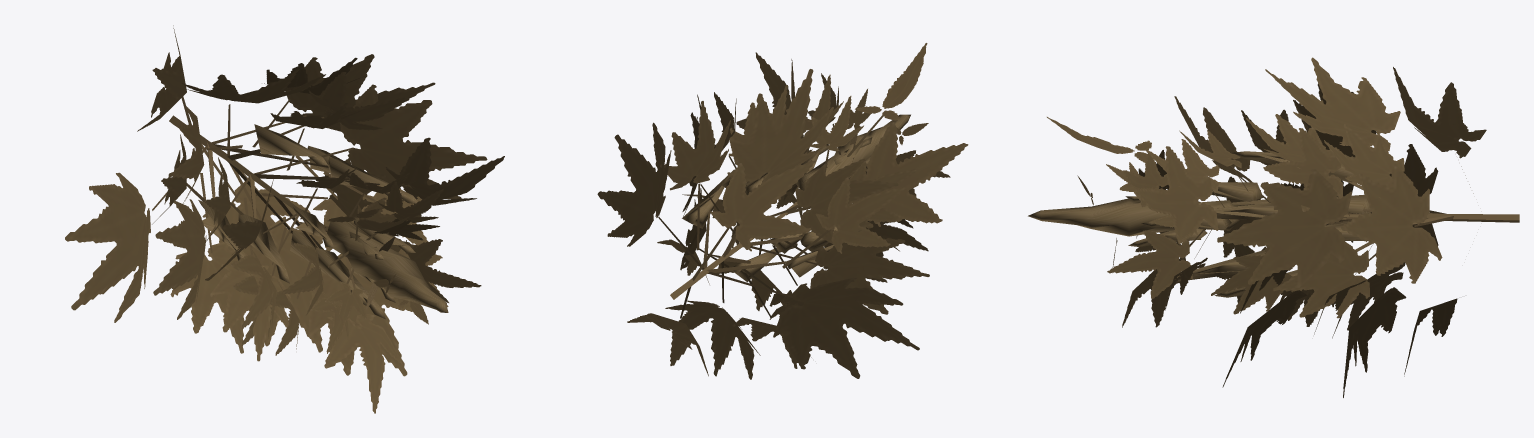
Rendered from p_tree_flowering_c3_cards.obj.
The picture shows the model from 3 angles, left to right: view 1: azimuth 30°, elevation 25°; view 2: azimuth 150°, elevation 25°; view 3: azimuth 270°, elevation 25°; orthographic projection. The views are drawn at different scales.
Size of the model in its own units: 1.7 by 1.46 by 1.8.
1 material, 1 textured.
